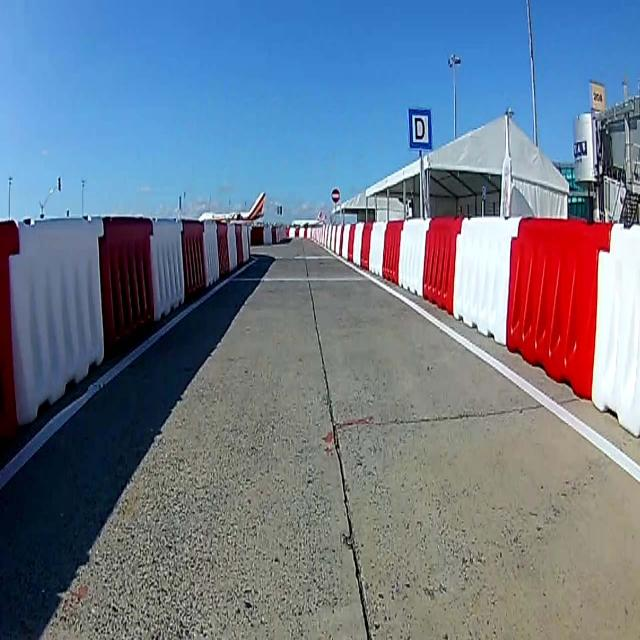durak: (408, 108, 432, 148)
girisyok: (331, 186, 341, 204)
